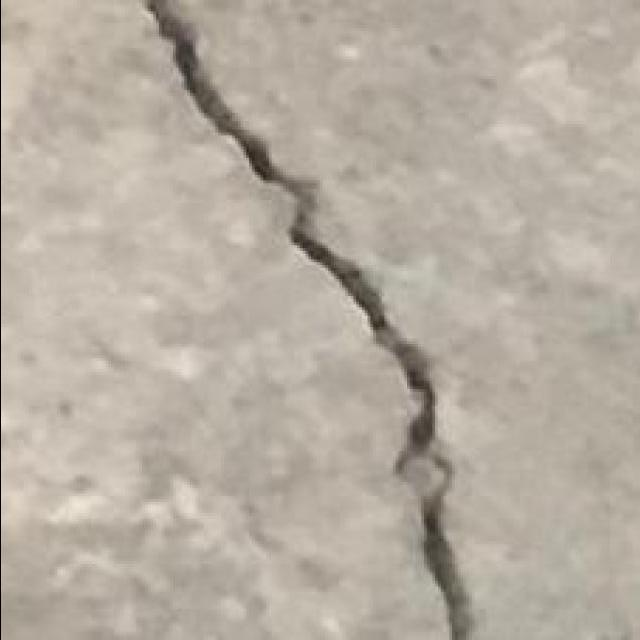crack: (142, 0, 476, 638), (7, 12, 257, 316), (459, 12, 640, 322)
